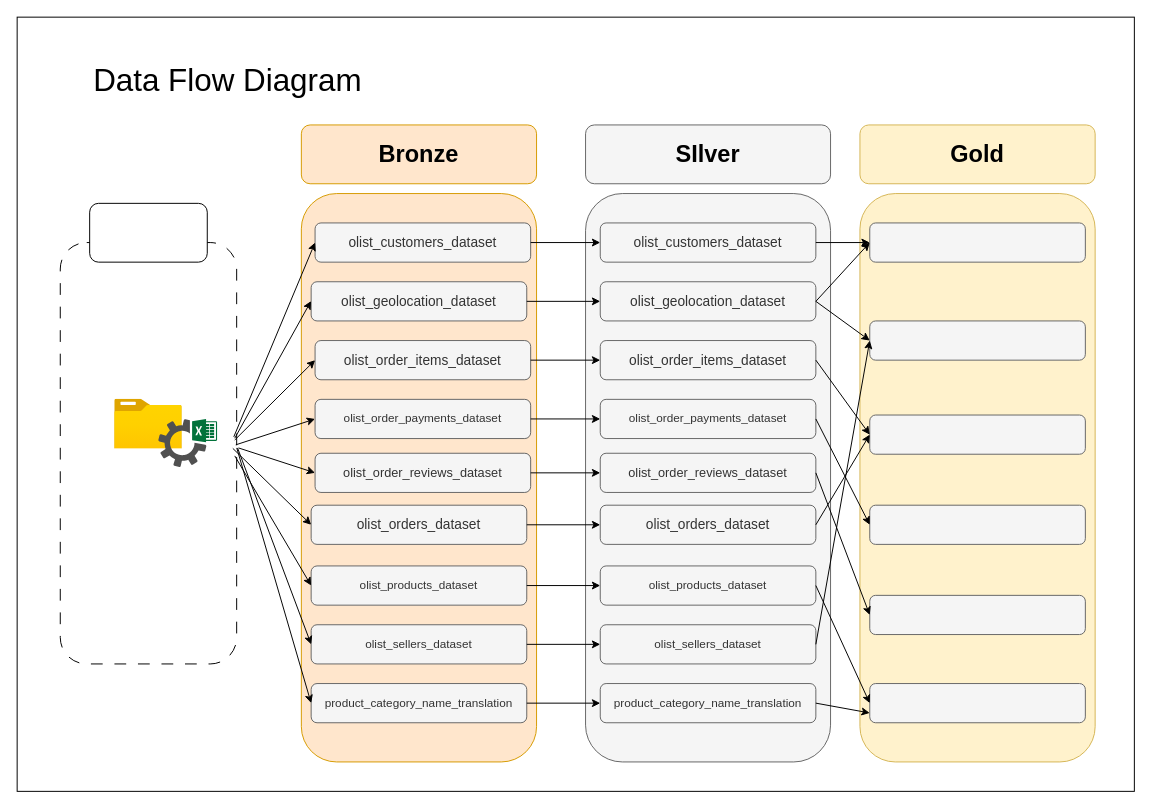
Some shapes in this 1152 by 809 pixel diagram are drawn without their labels. The shapes that lost their labels are listed below. From the top down, each one's centre as x and y in pixels, then its label:
point (148, 232): Sources
point (977, 242): dim_customers
point (977, 340): dim_sellers
point (977, 434): fact_orders
point (148, 472): Olist
point (977, 524): dim_payments
point (977, 614): dim_reviews
point (977, 703): dim_products
